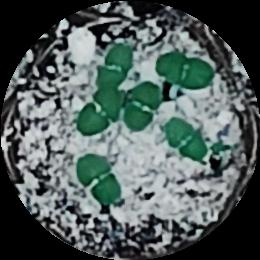Basil: (71, 153, 126, 203), (78, 90, 121, 140), (156, 51, 214, 88), (166, 119, 209, 164), (124, 83, 160, 132), (97, 45, 132, 92)
